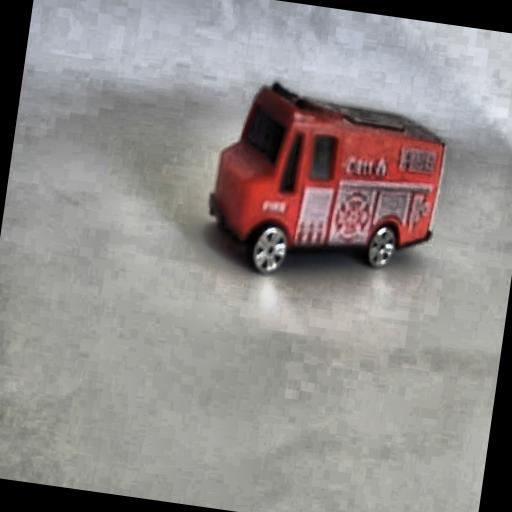fire_truck: (198, 72, 452, 298)
